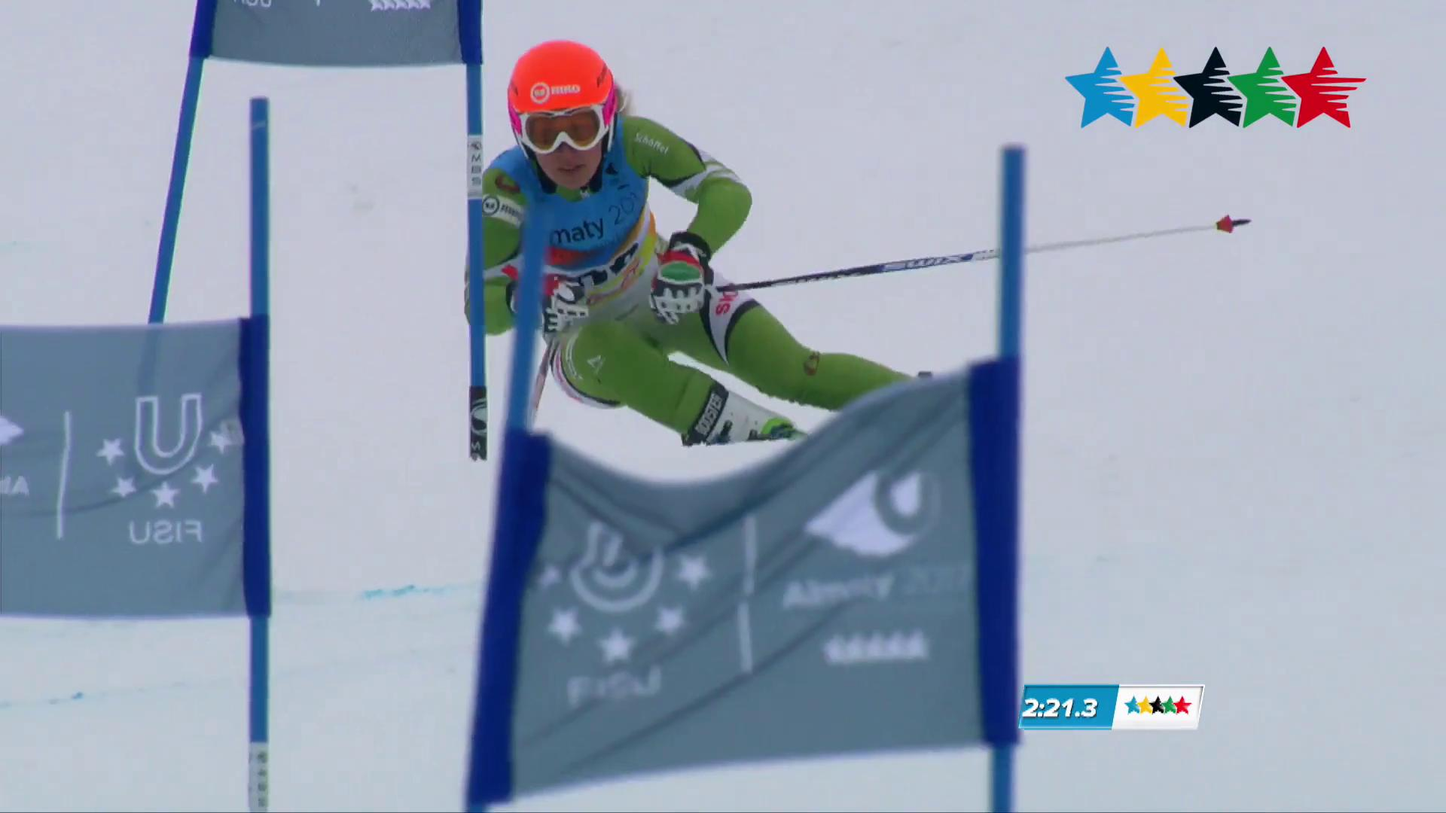gate: (466, 214, 547, 812), (970, 145, 1025, 812), (239, 97, 272, 812), (148, 50, 204, 322), (193, 0, 203, 44)
